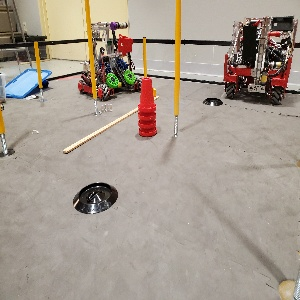Red_4: (137, 75, 156, 136)
